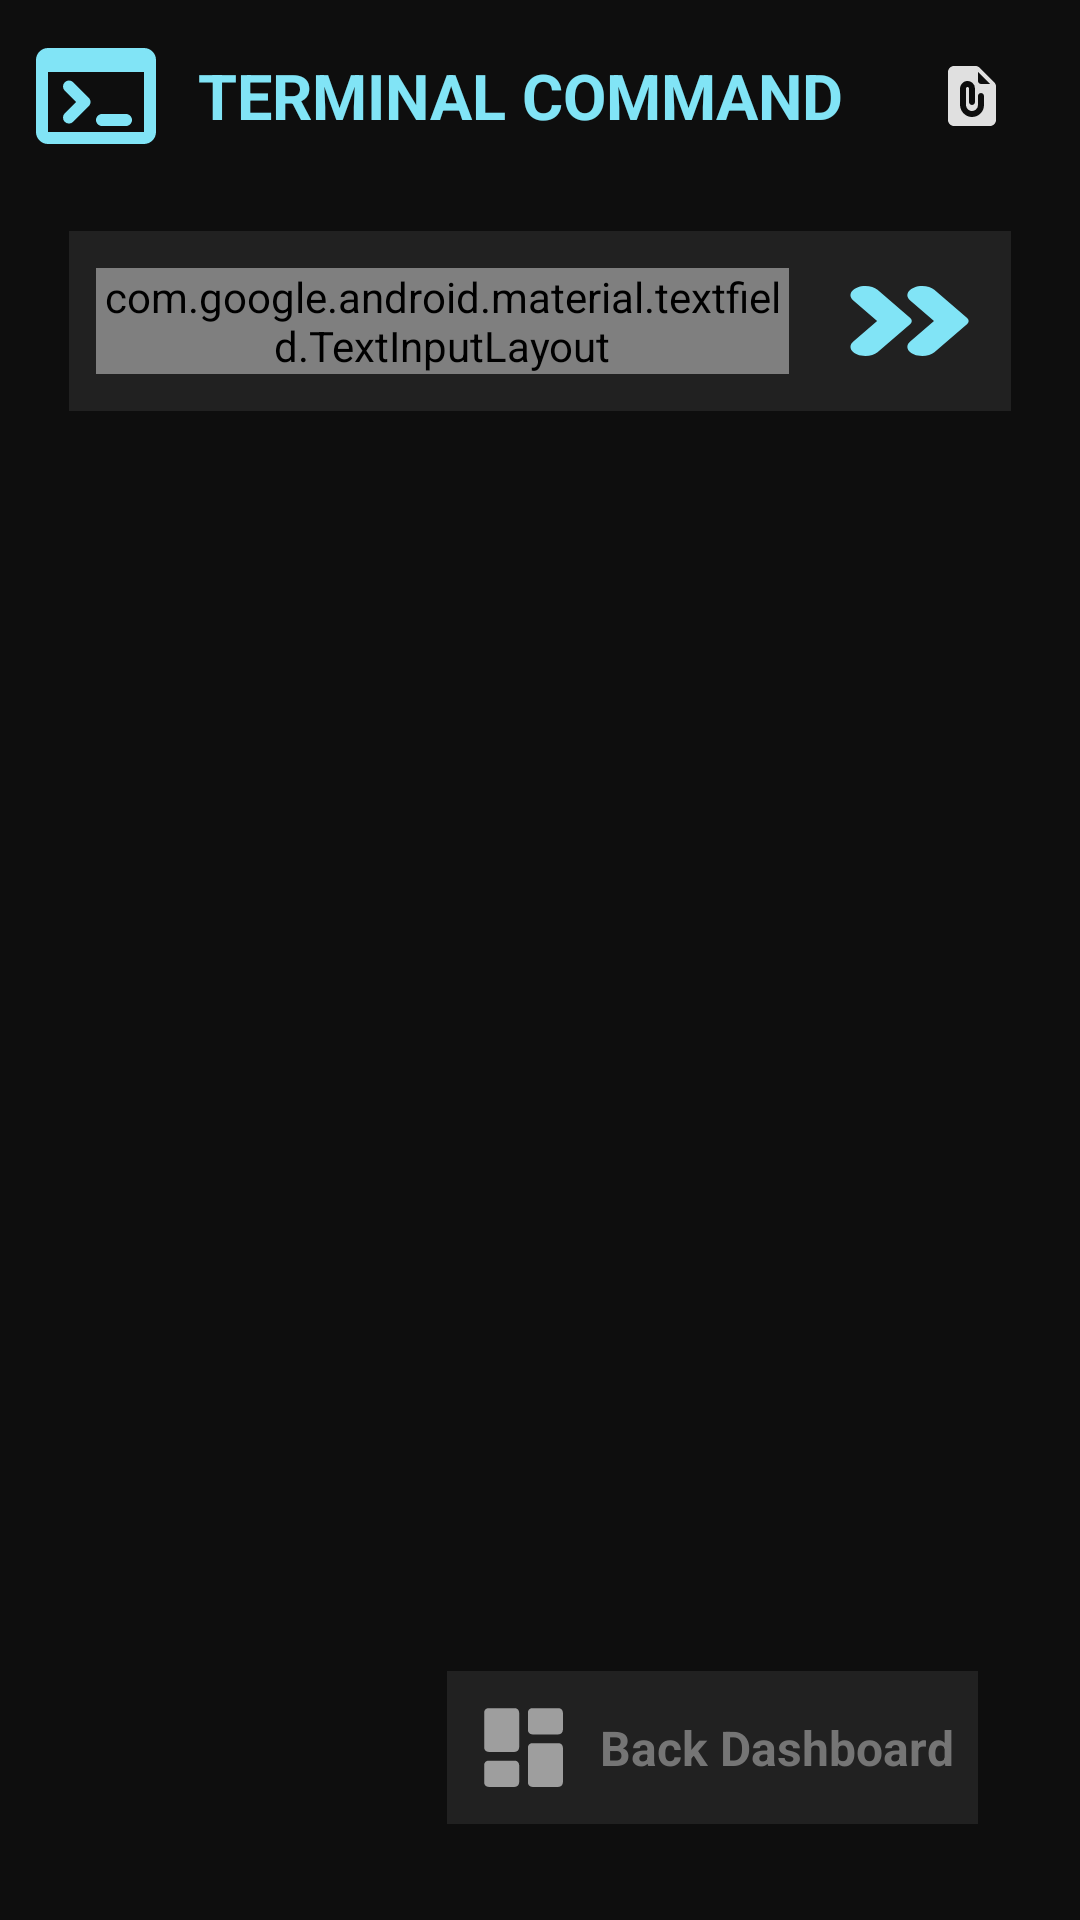

Screen size 1080×1920. Icon name, then its center in pixels as [x,y]:
dashboard round: [523,1747]
double arrow round: [909,321]
file present round: [972,96]
terminal roundd: [96,96]
